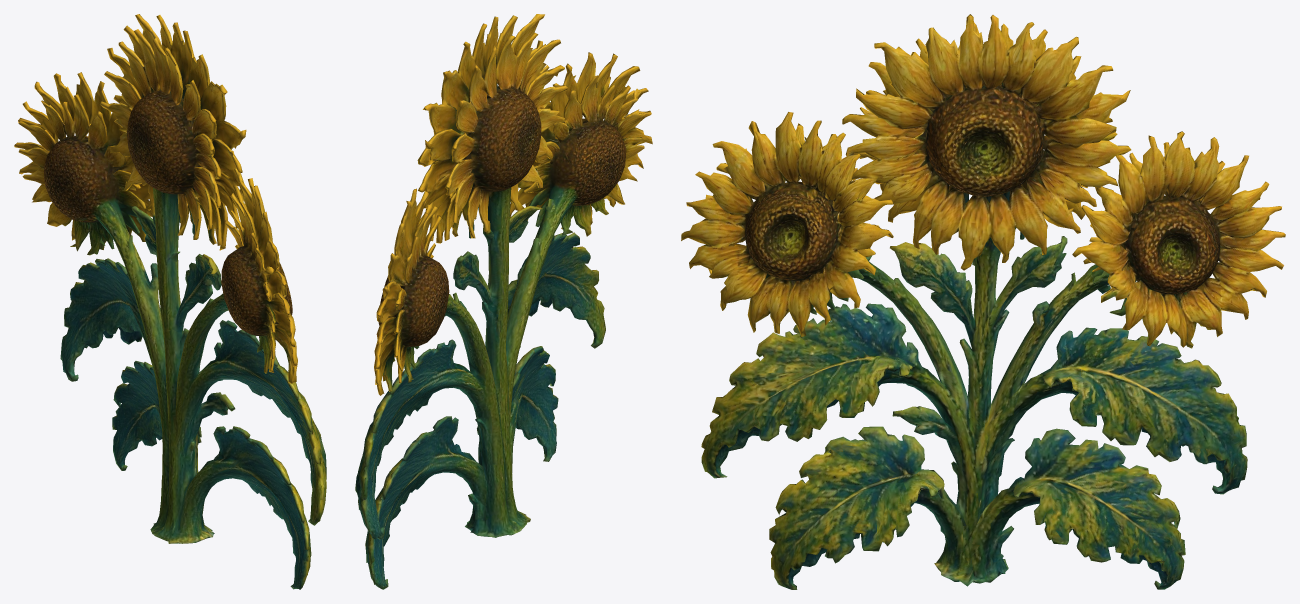
File: sunflower+3d+model+1k.glb
3 renders of one model, left to right at view 1: azimuth 30°, elevation 25°; view 2: azimuth 150°, elevation 25°; view 3: azimuth 270°, elevation 25°, orthographic. The views are drawn at different scales.
Visible parts, largest first — view 1: tripo_node_a9d777bc-e0ea-49d3-a4be-f091d7105649; view 2: tripo_node_a9d777bc-e0ea-49d3-a4be-f091d7105649; view 3: tripo_node_a9d777bc-e0ea-49d3-a4be-f091d7105649.
Part boxes in pixels (box(x1,y1,x2,y2)): tripo_node_a9d777bc-e0ea-49d3-a4be-f091d7105649: box(14, 14, 326, 589); tripo_node_a9d777bc-e0ea-49d3-a4be-f091d7105649: box(355, 14, 652, 589); tripo_node_a9d777bc-e0ea-49d3-a4be-f091d7105649: box(681, 14, 1285, 589).
Size of the model in its own units: 0.192 by 1 by 0.9755.
Materials: 1 (1 with a texture image).
